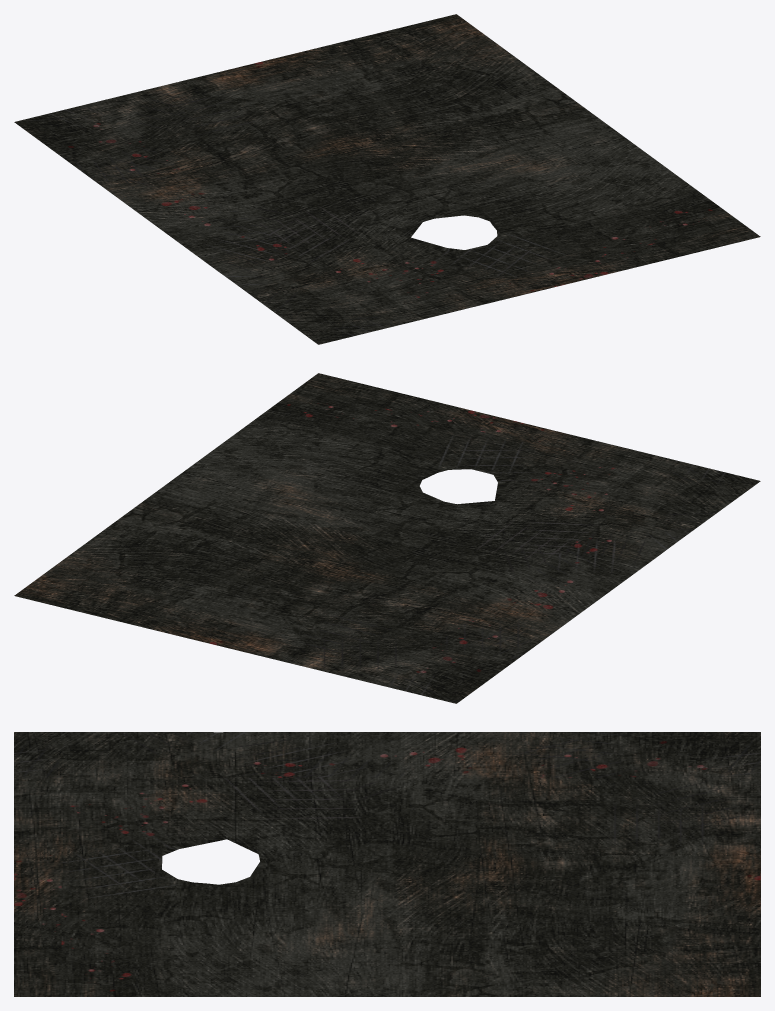
Rendered from FBX_Table.fbx.
The picture shows the model from 3 angles, top to bottom: view 1: azimuth 30°, elevation 25°; view 2: azimuth 150°, elevation 25°; view 3: azimuth 270°, elevation 25°; orthographic projection. The views are drawn at different scales.
Visible parts, largest first — view 1: Plano.001; view 2: Plano.001; view 3: Plano.001.
Part boxes in pixels (bbox=[...]): Plano.001: bbox=[14, 14, 760, 344]; Plano.001: bbox=[14, 373, 760, 703]; Plano.001: bbox=[14, 732, 760, 996].
Bounding box in the file's own units: 1576 × 0 × 1878.
1 material, 1 textured.
